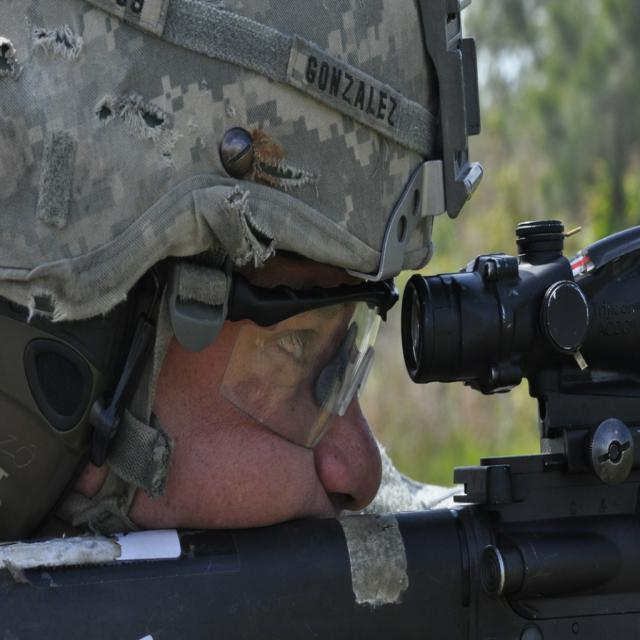weapon: (0, 220, 640, 640)
